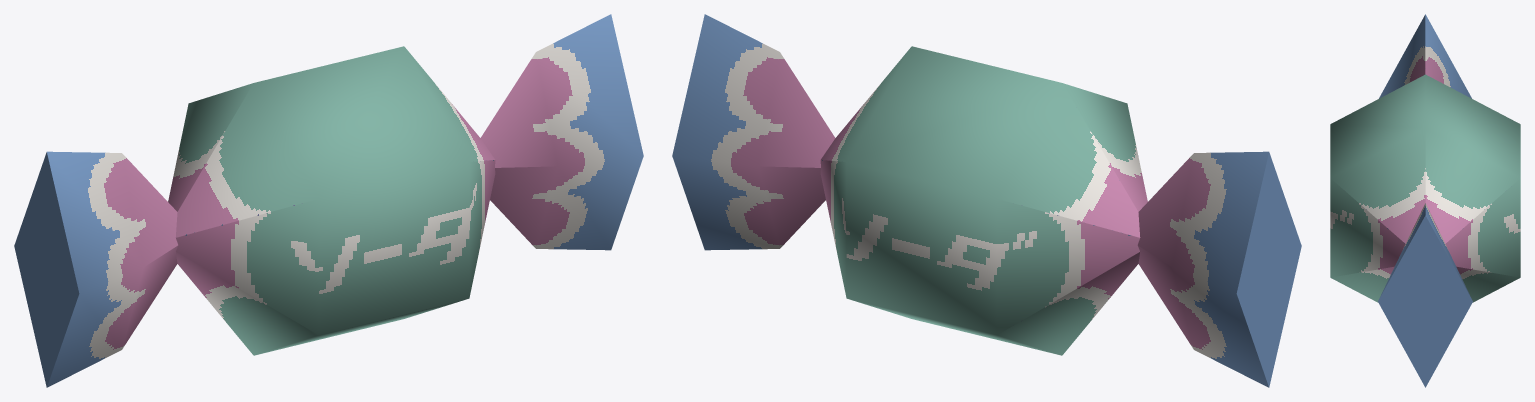
Rendered from 04e3_Candy.glb.
3 renders of one model, left to right at view 1: azimuth 30°, elevation 25°; view 2: azimuth 150°, elevation 25°; view 3: azimuth 270°, elevation 25°, orthographic. The views are drawn at different scales.
Visible parts, largest first — view 1: part_0; view 2: part_0; view 3: part_0.
Boxes of the visible parts, bbox=[...] form: part_0: bbox=[14, 14, 643, 387]; part_0: bbox=[672, 14, 1301, 387]; part_0: bbox=[1330, 14, 1520, 387].
Size of the model in its own units: 0.045 by 0.0208 by 0.018.
1 material, 1 textured.
